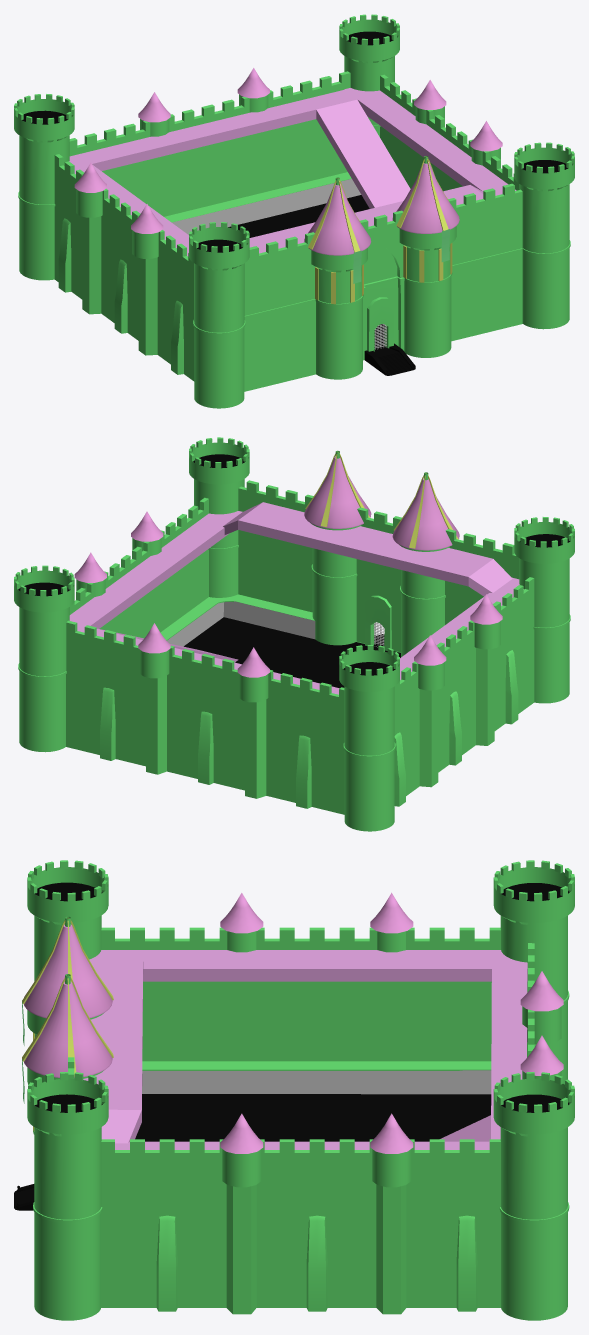
File: DarkDastleGreen.fbx
The picture shows the model from 3 angles, top to bottom: view 1: azimuth 30°, elevation 25°; view 2: azimuth 150°, elevation 25°; view 3: azimuth 270°, elevation 25°; orthographic projection. The views are drawn at different scales.
Parts seen in each view (by area): view 1: Castle_Catle, Cube.004, Cube.001, Floor, CacheMisereFloor, Cube.003, Cube.002; view 2: Castle_Catle, Cube.003, Floor, Cube.001, CacheMisereFloor, CacheMiserePorte, Cube.002, Cube.004; view 3: Castle_Catle, Floor, Cube.002, CacheMisereFloor, Cube.003, Cube.004, Cube.001.
Boxes of the visible parts, x1=… form: Castle_Catle: x1=14, y1=14, x2=574, y2=408; Cube.004: x1=75, y1=89, x2=410, y2=208; Cube.001: x1=343, y1=88, x2=516, y2=195; Floor: x1=22, y1=31, x2=568, y2=348; CacheMisereFloor: x1=172, y1=179, x2=361, y2=234; Cube.003: x1=249, y1=185, x2=483, y2=253; Cube.002: x1=69, y1=155, x2=188, y2=256; Castle_Catle: x1=14, y1=437, x2=574, y2=831; Cube.003: x1=223, y1=502, x2=512, y2=596; Floor: x1=18, y1=454, x2=570, y2=688; Cube.001: x1=69, y1=511, x2=242, y2=631; CacheMisereFloor: x1=167, y1=601, x2=315, y2=646; CacheMiserePorte: x1=356, y1=559, x2=400, y2=652; Cube.002: x1=400, y1=577, x2=523, y2=679; Cube.004: x1=82, y1=628, x2=339, y2=694; Castle_Catle: x1=14, y1=860, x2=574, y2=1320; Floor: x1=34, y1=882, x2=569, y2=1141; Cube.002: x1=89, y1=950, x2=527, y2=981; CacheMisereFloor: x1=142, y1=1070, x2=491, y2=1094; Cube.003: x1=83, y1=959, x2=143, y2=1143; Cube.004: x1=440, y1=967, x2=527, y2=1141; Cube.001: x1=115, y1=1141, x2=489, y2=1149.
Bounding box in the file's own units: 5415 × 2648 × 5220.
